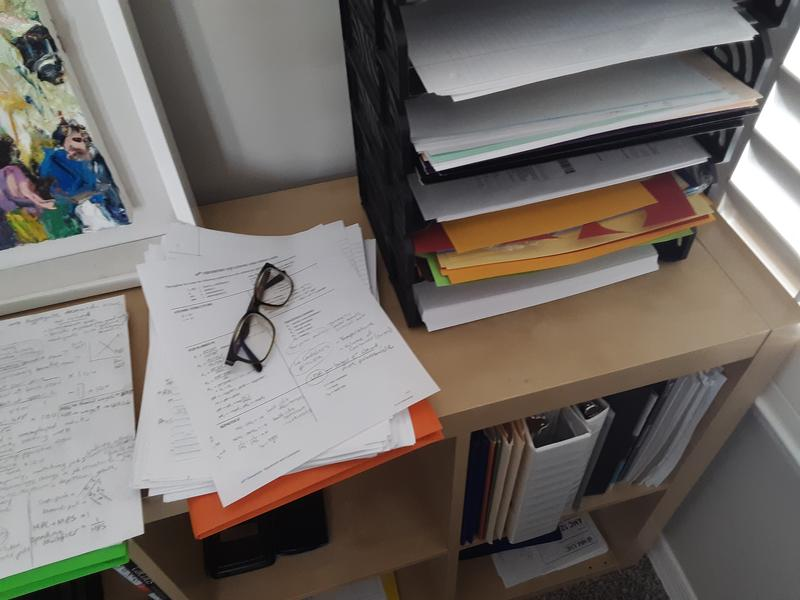glasses: (223, 260, 297, 374)
